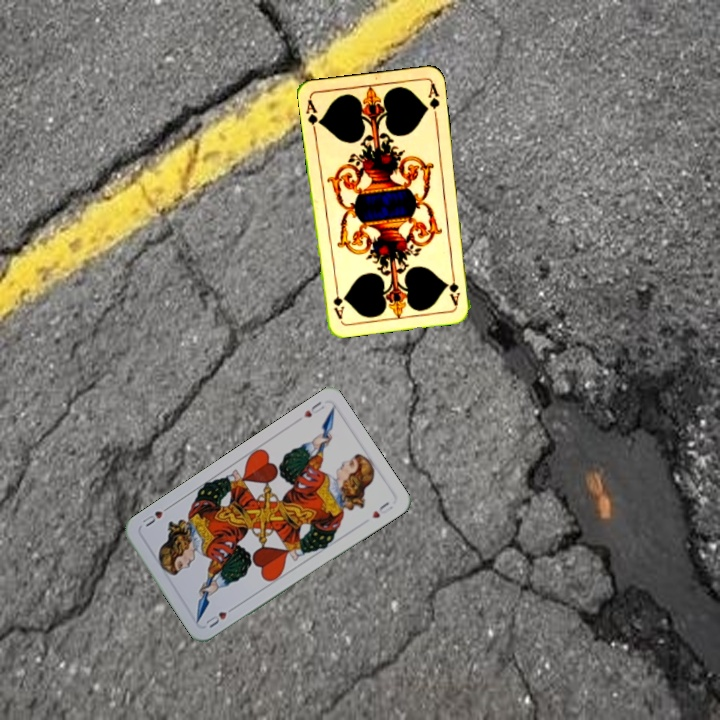GA: (302, 95, 324, 135), (445, 267, 463, 308)
HU: (202, 602, 238, 631), (300, 397, 327, 420)
